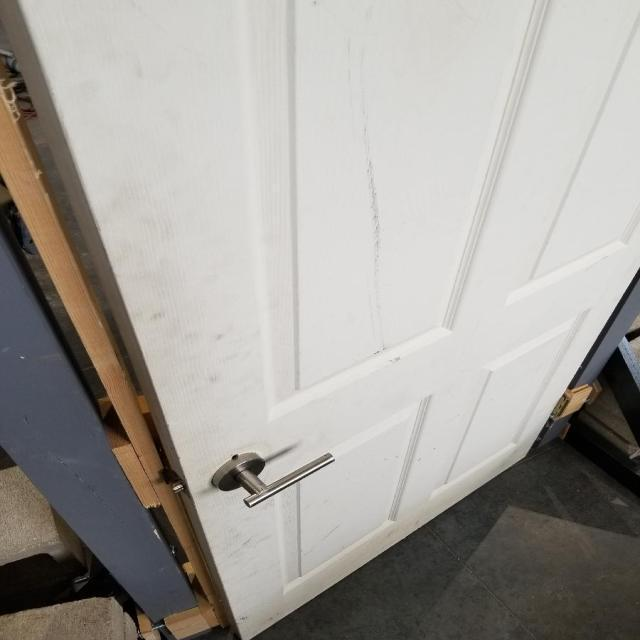door: (208, 447, 338, 512)
